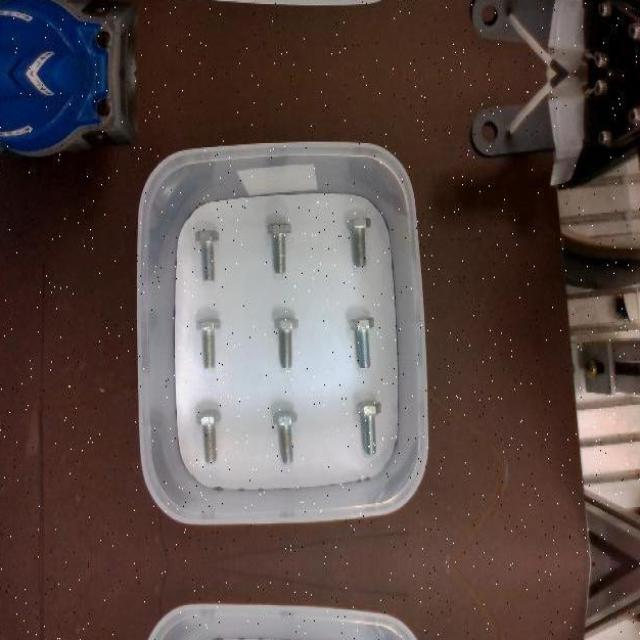screw: (356, 399, 381, 456), (197, 410, 222, 463), (273, 409, 296, 464), (267, 222, 292, 272), (275, 317, 300, 367), (195, 230, 219, 281), (197, 316, 221, 367), (348, 216, 372, 266), (351, 316, 374, 367)
